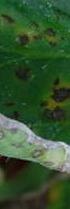Tomato Septoria leaf spot: (0, 0, 70, 194)
